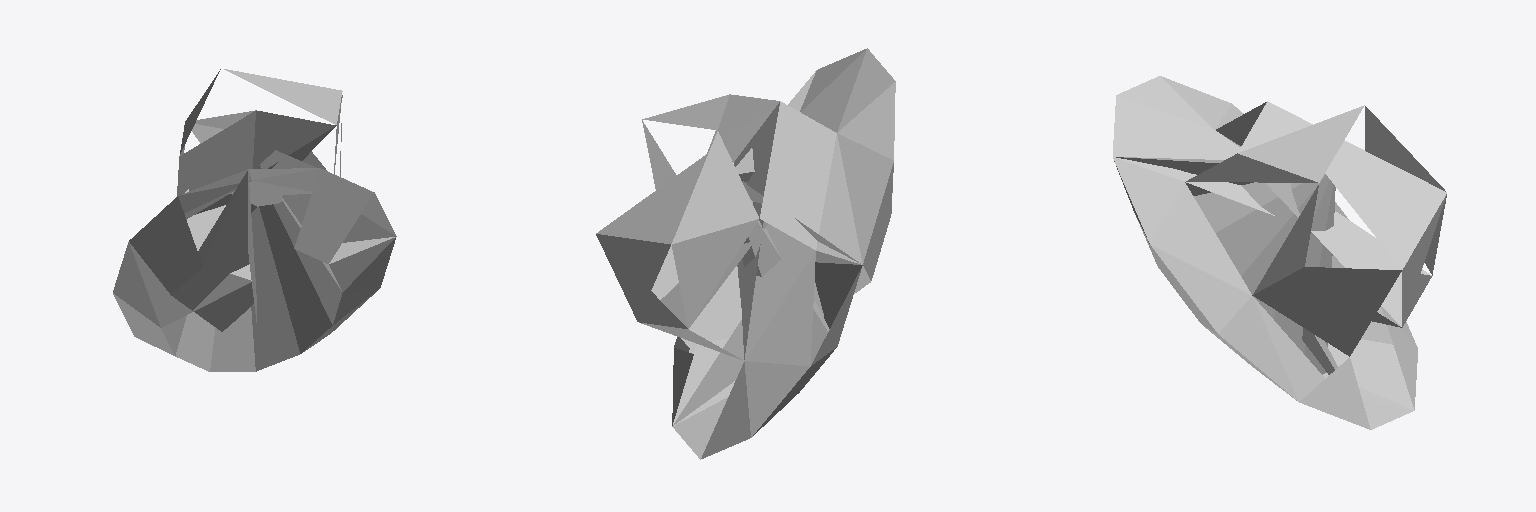
File: Inactive Shield.obj
3 renders of one model, left to right at view 1: azimuth 30°, elevation 25°; view 2: azimuth 150°, elevation 25°; view 3: azimuth 270°, elevation 25°, orthographic.
Visible parts, largest first — view 1: jackal_shield_inactive_1_0; view 2: jackal_shield_inactive_1_0; view 3: jackal_shield_inactive_1_0.
Boxes of the visible parts, box(x1,y1,x2,y2) form: jackal_shield_inactive_1_0: box(113, 69, 396, 371); jackal_shield_inactive_1_0: box(596, 48, 895, 459); jackal_shield_inactive_1_0: box(1113, 76, 1446, 429).
Bounding box in the file's own units: 0.0563 × 0.0749 × 0.0735.